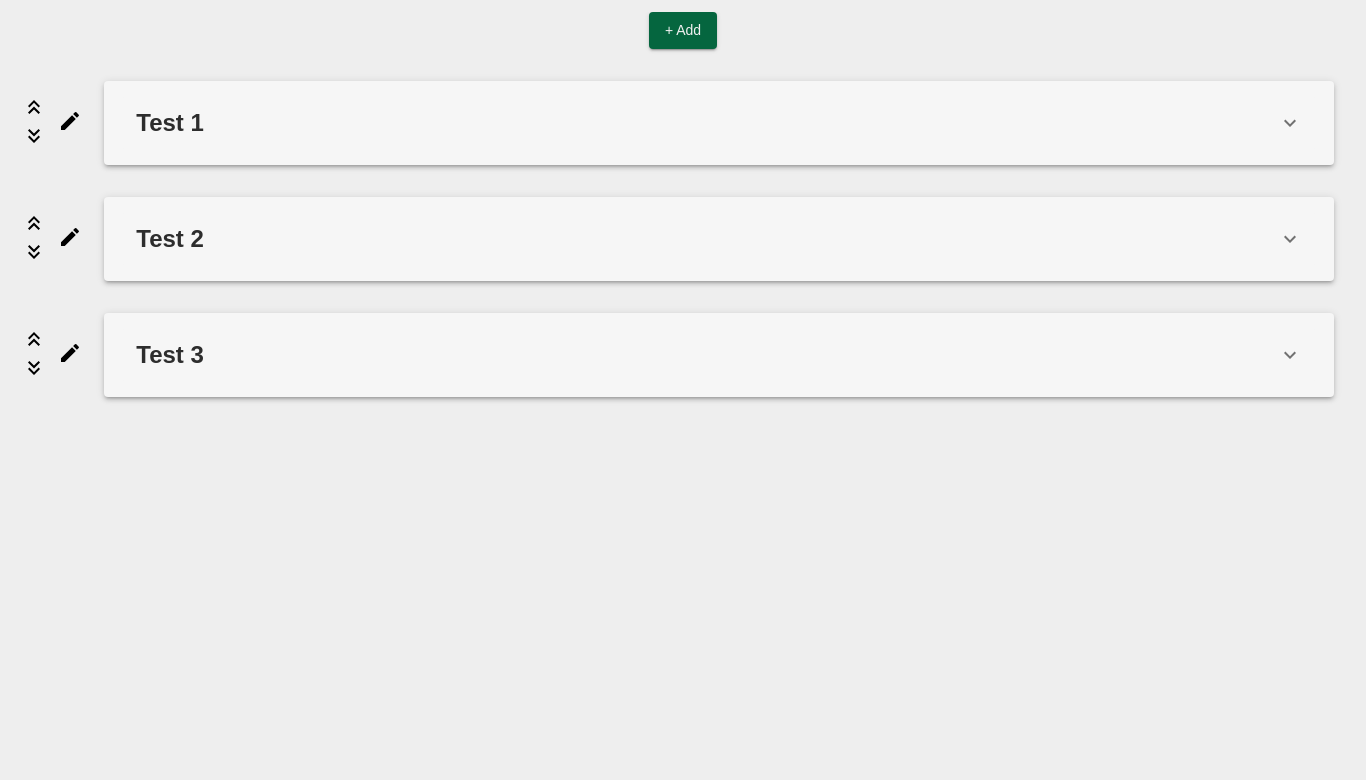
Test: Wiki items component › has edit button for admin and manager users, and on click, has update, cancel, and delete buttons
The width and height of the screenshot is (1366, 780).
What coordinates should you click on to do the following:
click the button with test id "#edit-1"
I would click on:
 (70, 122)
Its box is [52,64,88,180].
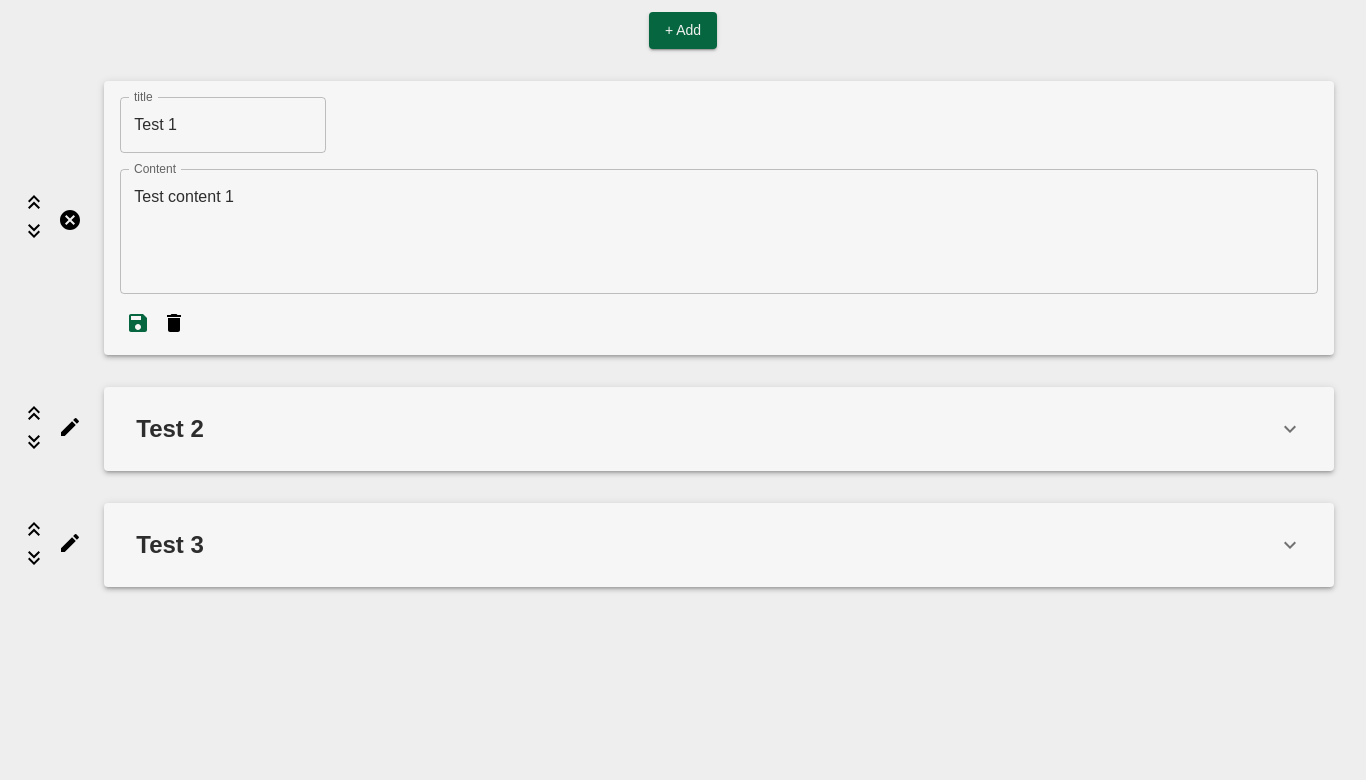
Now the button with test id "#cancel-1" is shown, box [52,72,88,370]
Now the button with test id "#update-1" is shown, box [120,310,156,338]
Now the button with test id "#delete-1" is shown, box [156,310,192,338]
